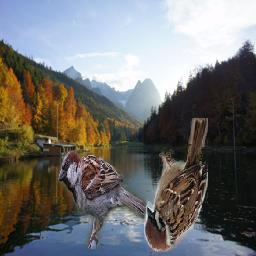Sparrow: (58, 151, 146, 250), (144, 118, 208, 252)
